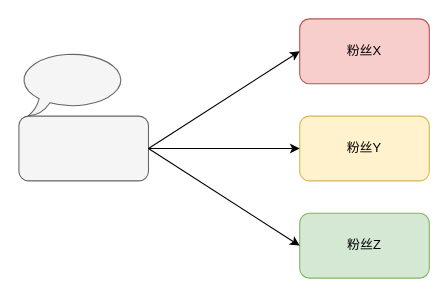
Some shapes in this 448 by 297 pixel diagram are drawn without their labels. Each missing label, with the box of its shape:
发布一条微博: (18, 50, 127, 116)
微博大V: (18, 115, 148, 181)
